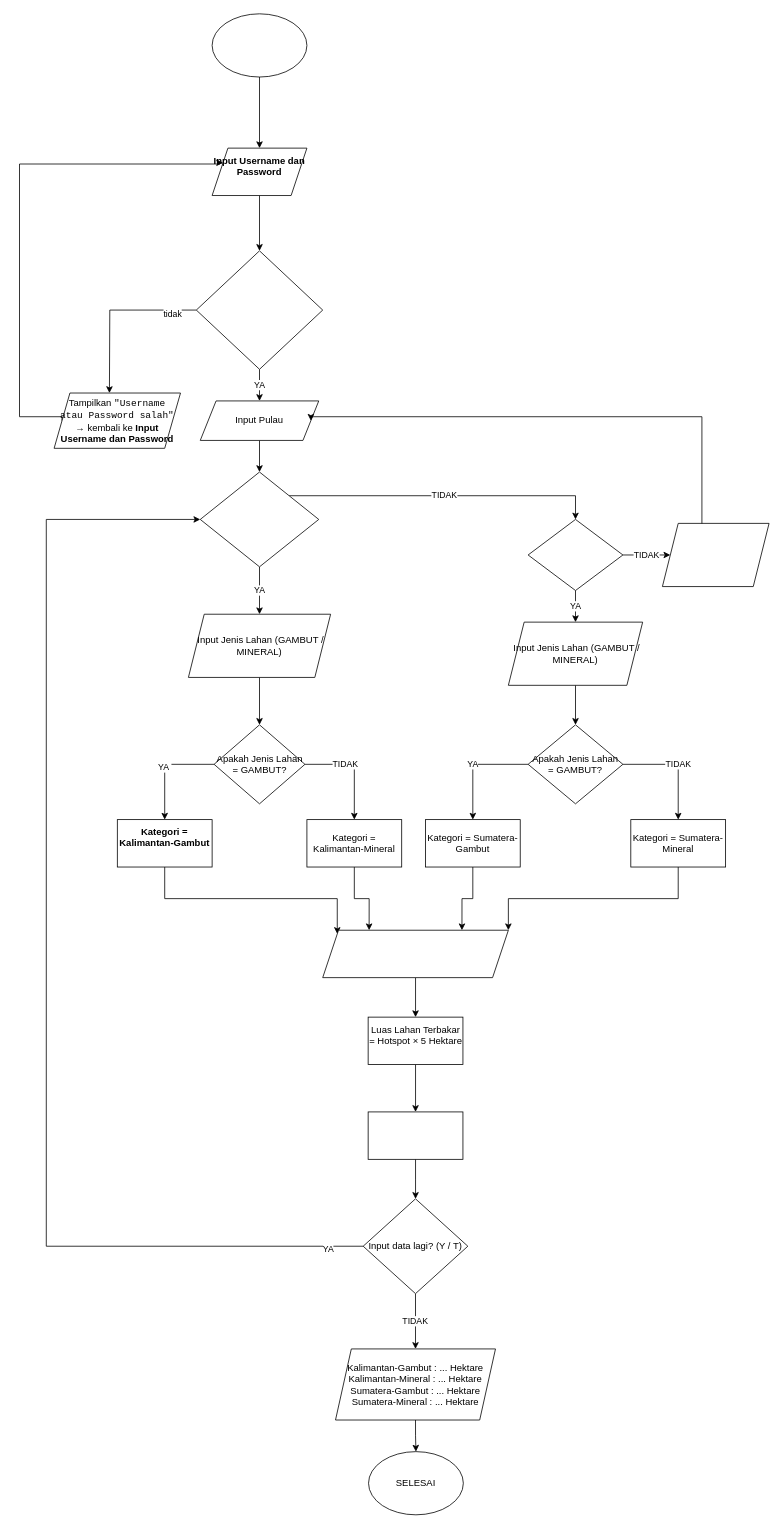
Some shapes in this 783 by 1529 pixel diagram are drawn without their labels. The centre of each missing label's shape, as x and y in pixels:
Apakah Pulau = KALIMANTAN?: [259,519]
Apakah Pulau = SUMATERA?: [575,555]
Apakah Username dan Password benar?: [259,309]
Input Jumlah Titik Api (Hotspot): [415,953]
MULAI: [259,45]
Tambahkan luas ke total kategori masing-masing: [415,1135]
Tampilkan pesan: "Pulau tidak valid!" kembali ke Input Pulau: [715,555]
